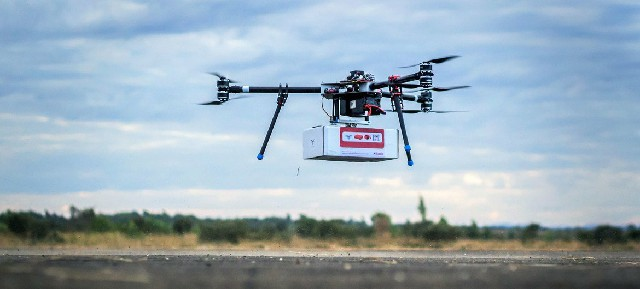maybay_khongnguoilai: (208, 54, 455, 163)
